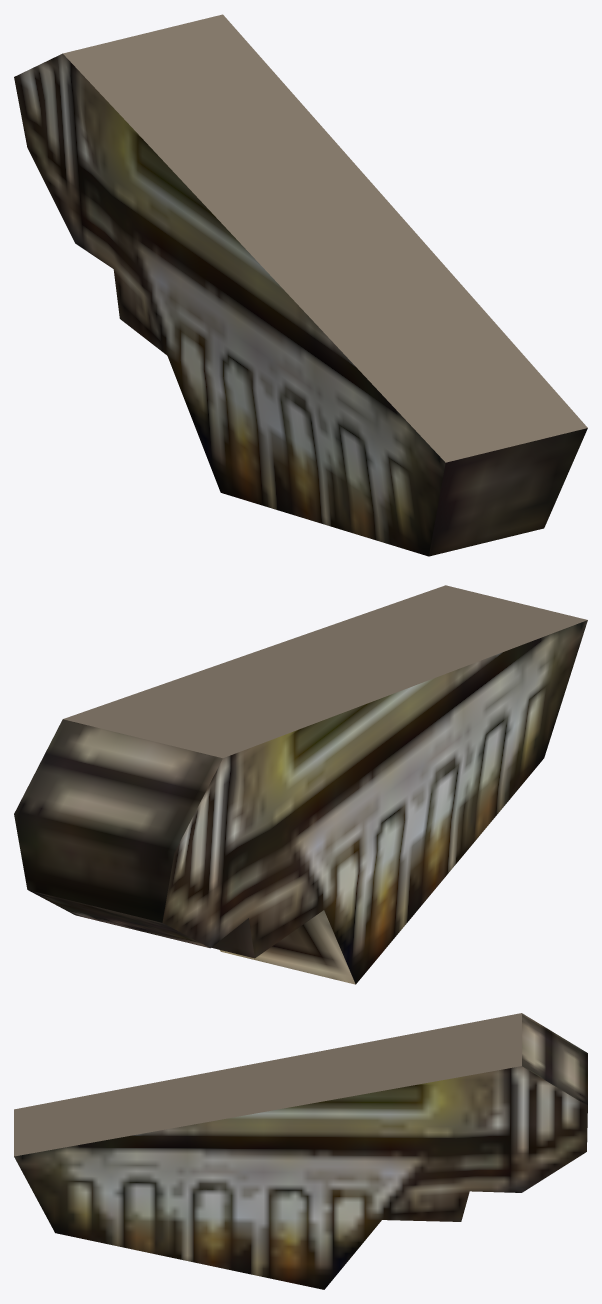
File: gun05_reload.obj
3 views of the same model, one above another, from view 1: azimuth 30°, elevation 25°; view 2: azimuth 150°, elevation 25°; view 3: azimuth 270°, elevation 25° (orthographic). The views are drawn at different scales.
Visible parts, largest first — view 1: gun05_reload; view 2: gun05_reload; view 3: gun05_reload.
Part boxes in pixels (<box>): gun05_reload: <box>14,14,587,556</box>; gun05_reload: <box>14,585,587,984</box>; gun05_reload: <box>14,1013,587,1289</box>.
Size of the model in its own units: 0.0973 by 0.1949 by 0.4445.
1 material, 1 textured.
